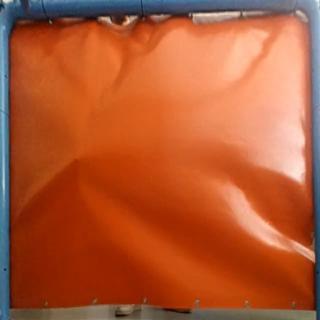Hit-hRxx: (64, 152, 84, 164)
